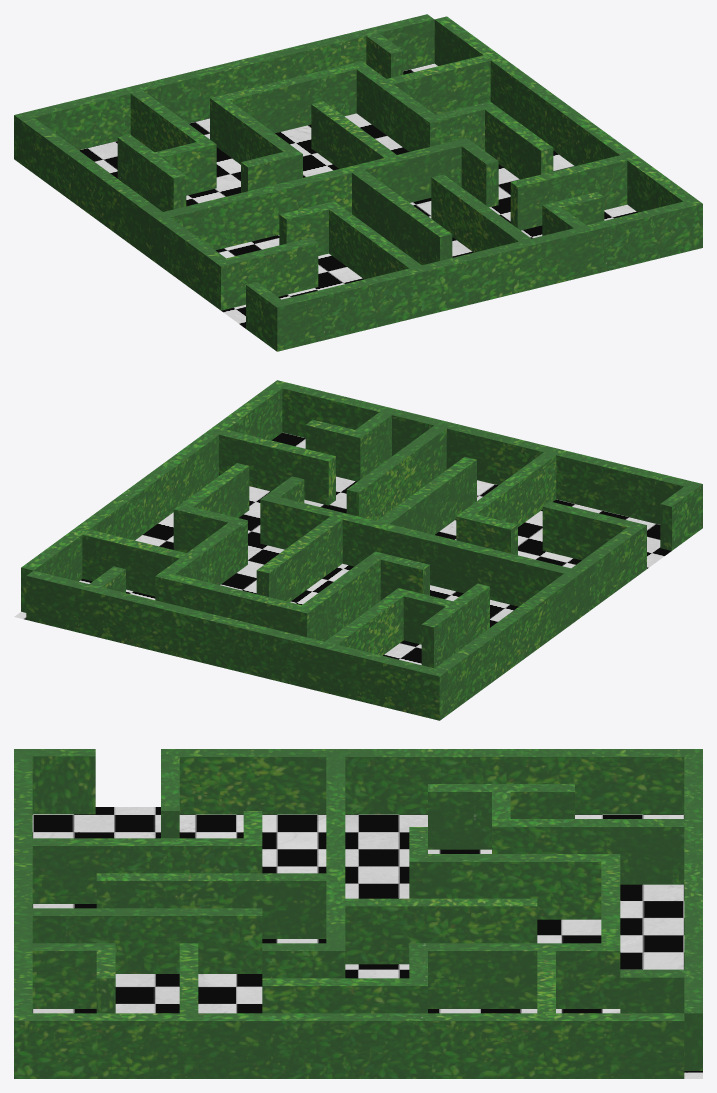
Rendered from room3.fbx.
3 renders of one model, top to bottom at view 1: azimuth 30°, elevation 25°; view 2: azimuth 150°, elevation 25°; view 3: azimuth 270°, elevation 25°, orthographic. The views are drawn at different scales.
Visible parts, largest first — view 1: bushes_geo, floor_mtl; view 2: bushes_geo, floor_mtl; view 3: bushes_geo, floor_mtl.
Boxes of the visible parts, left/top/right/bottom form: bushes_geo: left=14, top=14, right=702, bottom=351; floor_mtl: left=79, top=63, right=637, bottom=328; bushes_geo: left=21, top=380, right=702, bottom=720; floor_mtl: left=14, top=432, right=671, bottom=664; bushes_geo: left=14, top=749, right=702, bottom=1078; floor_mtl: left=32, top=807, right=702, bottom=1078.
Size of the model in its own units: 57.52 by 5.7 by 61.57.
